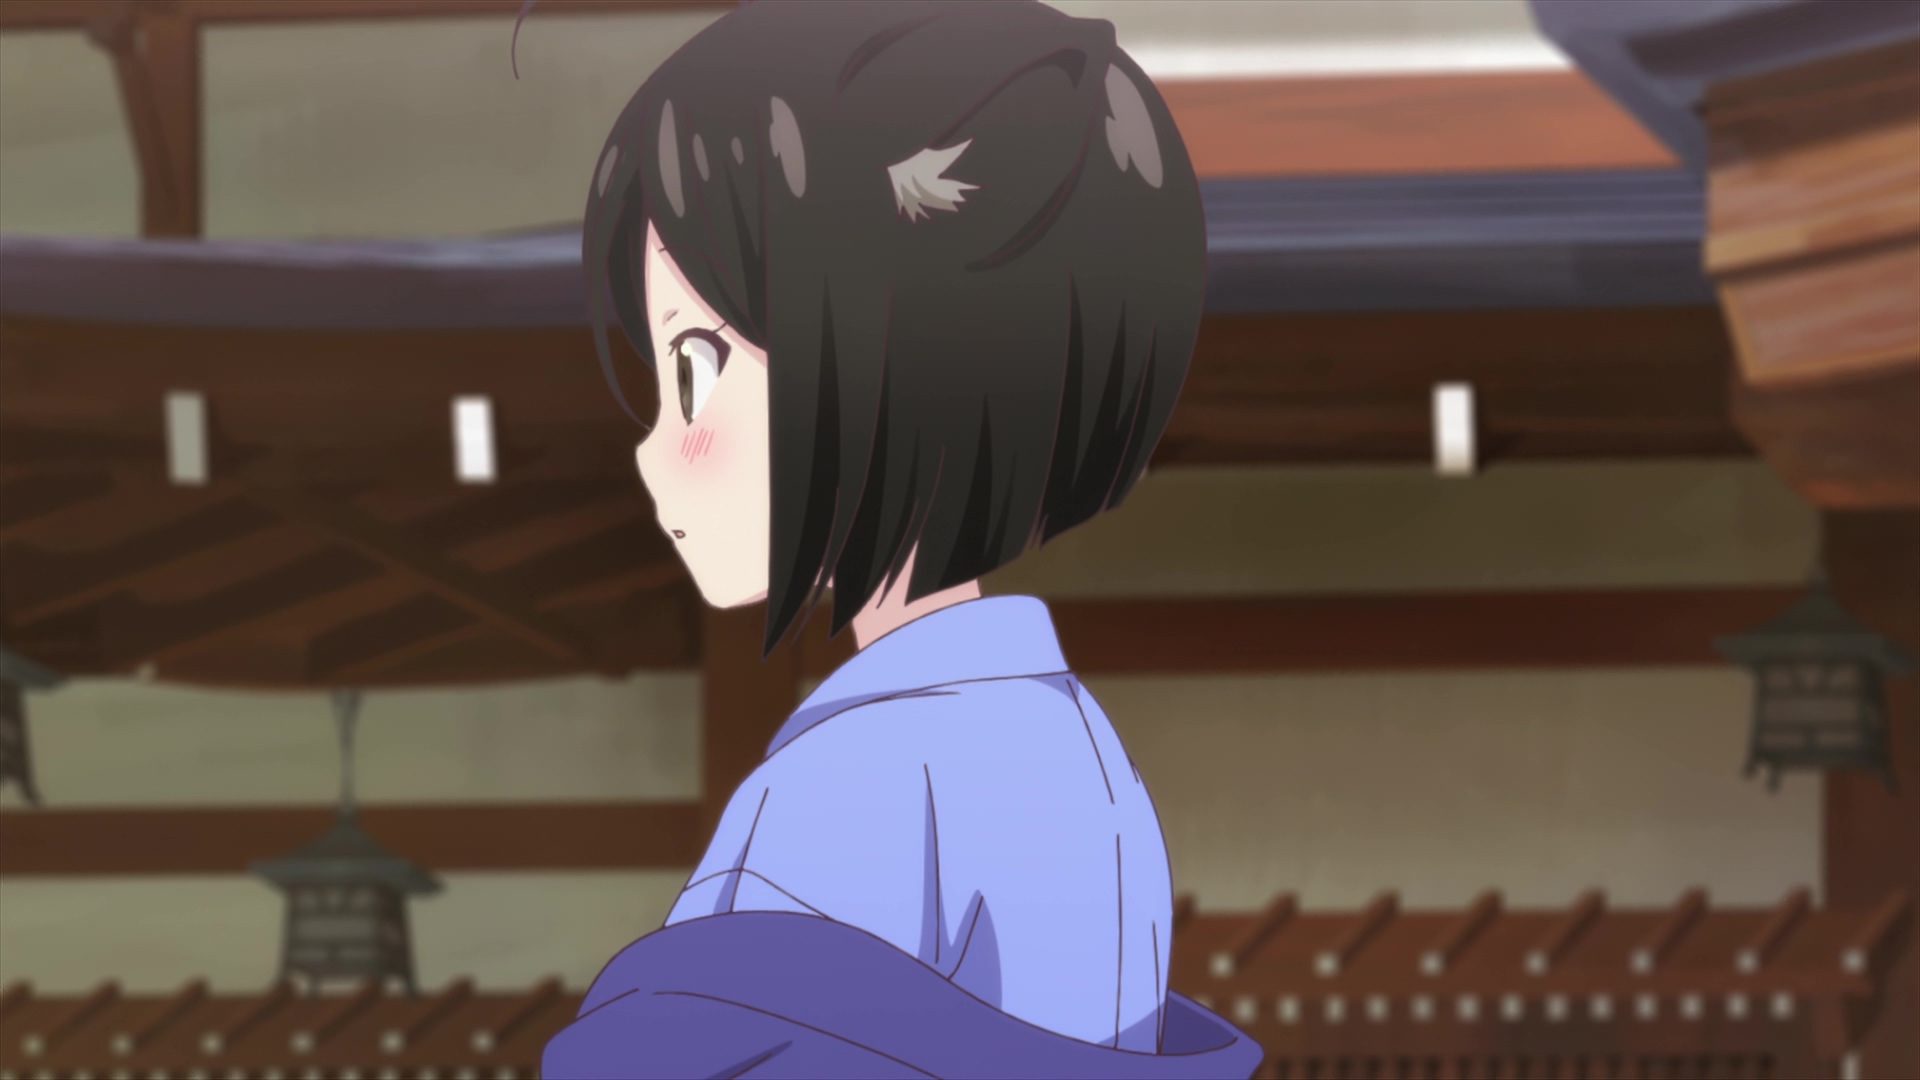其他: (545, 1, 1261, 1080)
